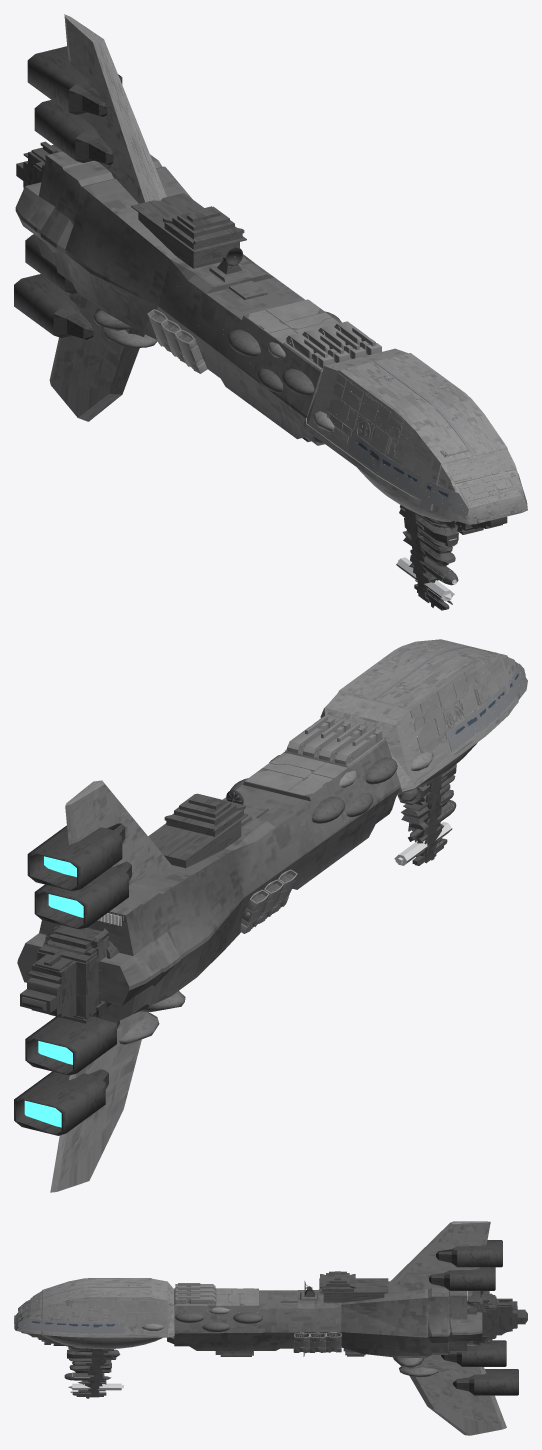
Rendered from sw_assault_frigate.glb.
The picture shows the model from 3 angles, top to bottom: view 1: azimuth 30°, elevation 25°; view 2: azimuth 150°, elevation 25°; view 3: azimuth 270°, elevation 25°; orthographic projection. The views are drawn at different scales.
Visible parts, largest first — view 1: hull_mat_9, hull_mat_0, hull_mat_4, hull_mat_8, hull_mat_10, hull_mat_13, hull_mat_6, hull_mat_1, hull_mat_15, hull_mat_2; view 2: hull_mat_9, hull_mat_0, hull_mat_4, hull_mat_10, hull_mat_8, hull_mat_6, hull_mat_13, hull_mat_5, hull_mat_1, hull_mat_15, hull_mat_2; view 3: hull_mat_9, hull_mat_0, hull_mat_4, hull_mat_10, hull_mat_8, hull_mat_13, hull_mat_6, hull_mat_1, hull_mat_2, hull_mat_15, Object_100.
Part boxes in pixels (bbox=[...]): hull_mat_9: bbox=[15, 151, 367, 445]; hull_mat_0: bbox=[49, 14, 527, 524]; hull_mat_4: bbox=[14, 46, 242, 339]; hull_mat_8: bbox=[248, 299, 520, 518]; hull_mat_10: bbox=[16, 141, 507, 610]; hull_mat_13: bbox=[131, 193, 310, 441]; hull_mat_6: bbox=[147, 309, 521, 523]; hull_mat_1: bbox=[233, 256, 525, 516]; hull_mat_15: bbox=[227, 311, 341, 395]; hull_mat_2: bbox=[267, 342, 457, 522]; hull_mat_9: bbox=[17, 738, 400, 1044]; hull_mat_0: bbox=[50, 639, 527, 1192]; hull_mat_4: bbox=[14, 790, 243, 1135]; hull_mat_10: bbox=[20, 764, 456, 1023]; hull_mat_8: bbox=[245, 647, 518, 795]; hull_mat_6: bbox=[240, 652, 497, 933]; hull_mat_13: bbox=[148, 793, 248, 868]; hull_mat_5: bbox=[24, 856, 83, 1127]; hull_mat_1: bbox=[227, 646, 525, 803]; hull_mat_15: bbox=[230, 757, 397, 823]; hull_mat_2: bbox=[269, 742, 477, 794]; hull_mat_9: bbox=[167, 1281, 482, 1377]; hull_mat_0: bbox=[14, 1221, 506, 1435]; hull_mat_4: bbox=[304, 1240, 518, 1395]; hull_mat_10: bbox=[21, 1291, 527, 1398]; hull_mat_8: bbox=[14, 1284, 259, 1326]; hull_mat_13: bbox=[215, 1271, 388, 1356]; hull_mat_6: bbox=[14, 1283, 341, 1352]; hull_mat_1: bbox=[18, 1286, 304, 1353]; hull_mat_2: bbox=[42, 1307, 229, 1349]; hull_mat_15: bbox=[175, 1312, 262, 1332]; Object_100: bbox=[66, 1353, 123, 1393].
Size of the model in its own units: 0.302 by 0.9033 by 1.97.
Materials: 16 (9 with a texture image).
